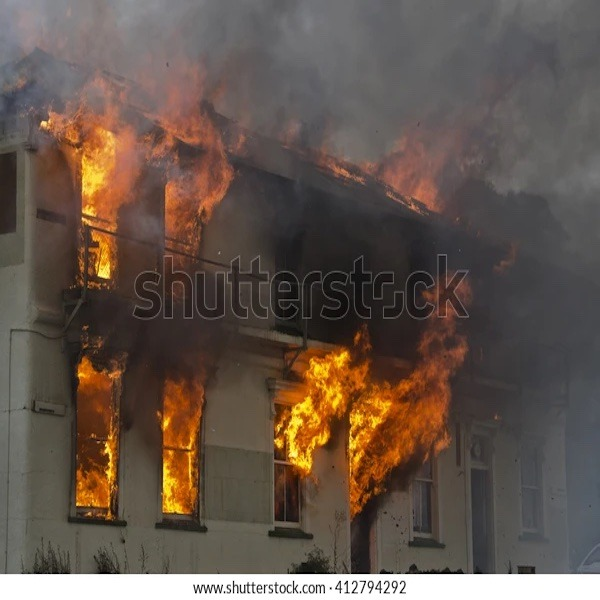fire: (152, 14, 238, 257), (64, 30, 136, 282), (355, 334, 457, 501), (381, 35, 469, 213), (149, 322, 221, 532), (69, 308, 133, 522), (282, 339, 359, 475), (436, 257, 511, 385), (283, 97, 376, 185)
